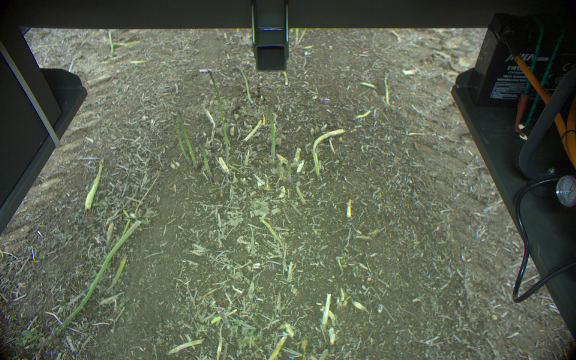aspa: (49, 218, 142, 341), (206, 68, 231, 155), (312, 126, 345, 176), (83, 154, 109, 212), (255, 216, 290, 255), (179, 111, 197, 171), (170, 113, 190, 163), (234, 65, 252, 107), (168, 337, 204, 355), (197, 142, 212, 182), (269, 104, 278, 161), (206, 307, 239, 321), (282, 151, 294, 184), (106, 30, 118, 55)
